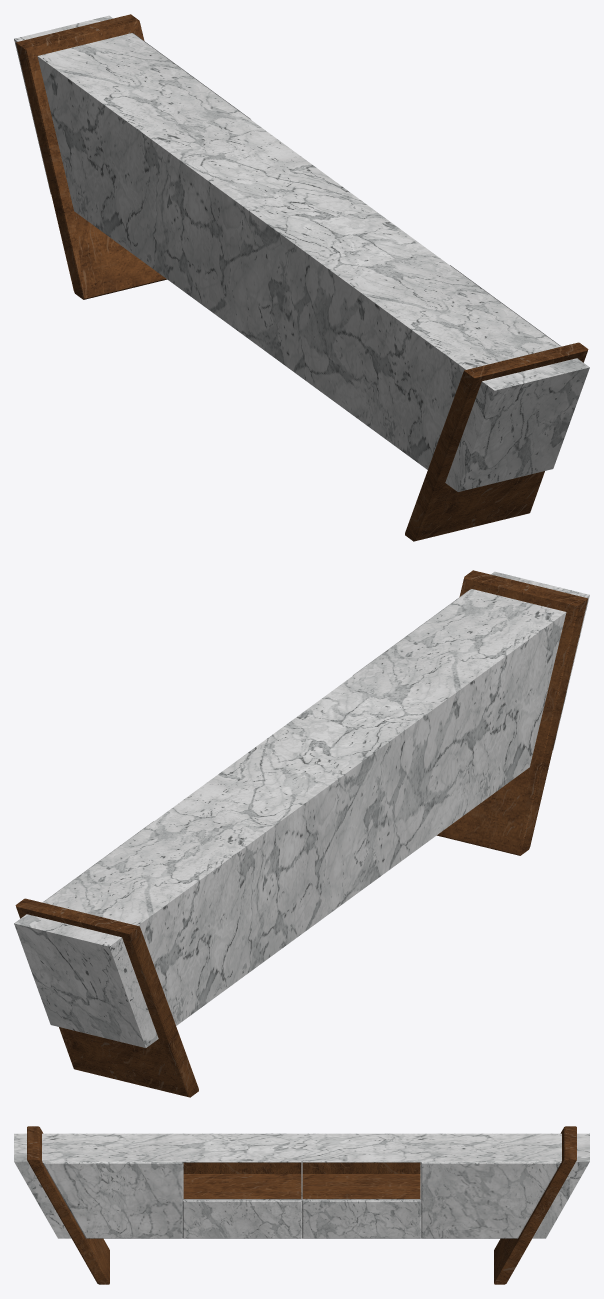
The model's file is CR04_TV_Table.FBX.
3 renders of one model, top to bottom at view 1: azimuth 30°, elevation 25°; view 2: azimuth 150°, elevation 25°; view 3: azimuth 270°, elevation 25°, orthographic. The views are drawn at different scales.
Parts seen in each view (by area): view 1: CR04_TV_Table; view 2: CR04_TV_Table; view 3: CR04_TV_Table.
Boxes of the visible parts, x1,y1,x2,y2 form: CR04_TV_Table: (14, 14, 589, 541); CR04_TV_Table: (14, 570, 589, 1097); CR04_TV_Table: (14, 1126, 589, 1284).
Bounding box in the file's own units: 525 × 905 × 3793.
